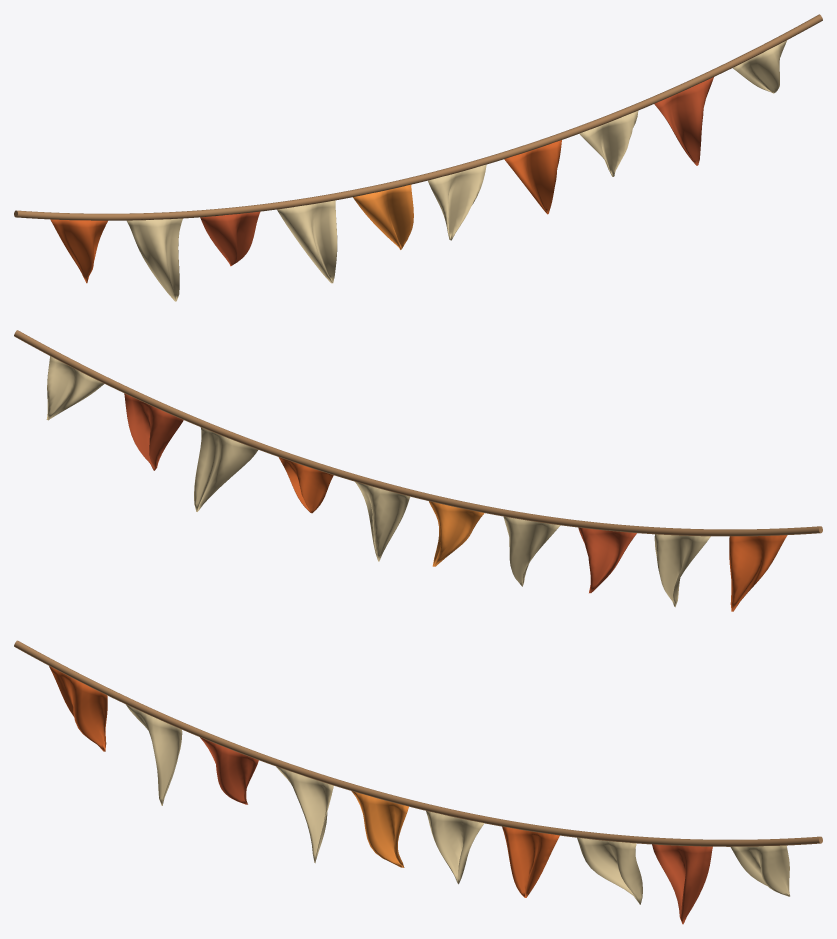
File: wsc-prop-015-pennant-breeze.glb
3 renders of one model, top to bottom at view 1: azimuth 30°, elevation 25°; view 2: azimuth 150°, elevation 25°; view 3: azimuth 330°, elevation 25°, orthographic.
Visible parts, largest first — view 1: Pennant cloth | breeze, Pennant flax carrier | fixed; view 2: Pennant cloth | breeze, Pennant flax carrier | fixed; view 3: Pennant cloth | breeze, Pennant flax carrier | fixed.
Part boxes in pixels (left/top/right/bottom): Pennant cloth | breeze: left=50, top=40, right=787, bottom=301; Pennant flax carrier | fixed: left=14, top=14, right=822, bottom=220; Pennant cloth | breeze: left=46, top=356, right=787, bottom=611; Pennant flax carrier | fixed: left=14, top=330, right=822, bottom=536; Pennant cloth | breeze: left=49, top=666, right=789, bottom=924; Pennant flax carrier | fixed: left=14, top=640, right=822, bottom=846.
Size of the model in its own units: 6.92 by 1.16 by 0.4043.
